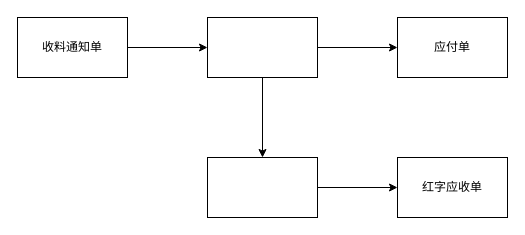
This 525x235 diagram has some shape labels left out. Each missing label, with the box of its shape:
采购入库: (206, 16, 318, 78)
采购退库: (206, 156, 318, 218)
